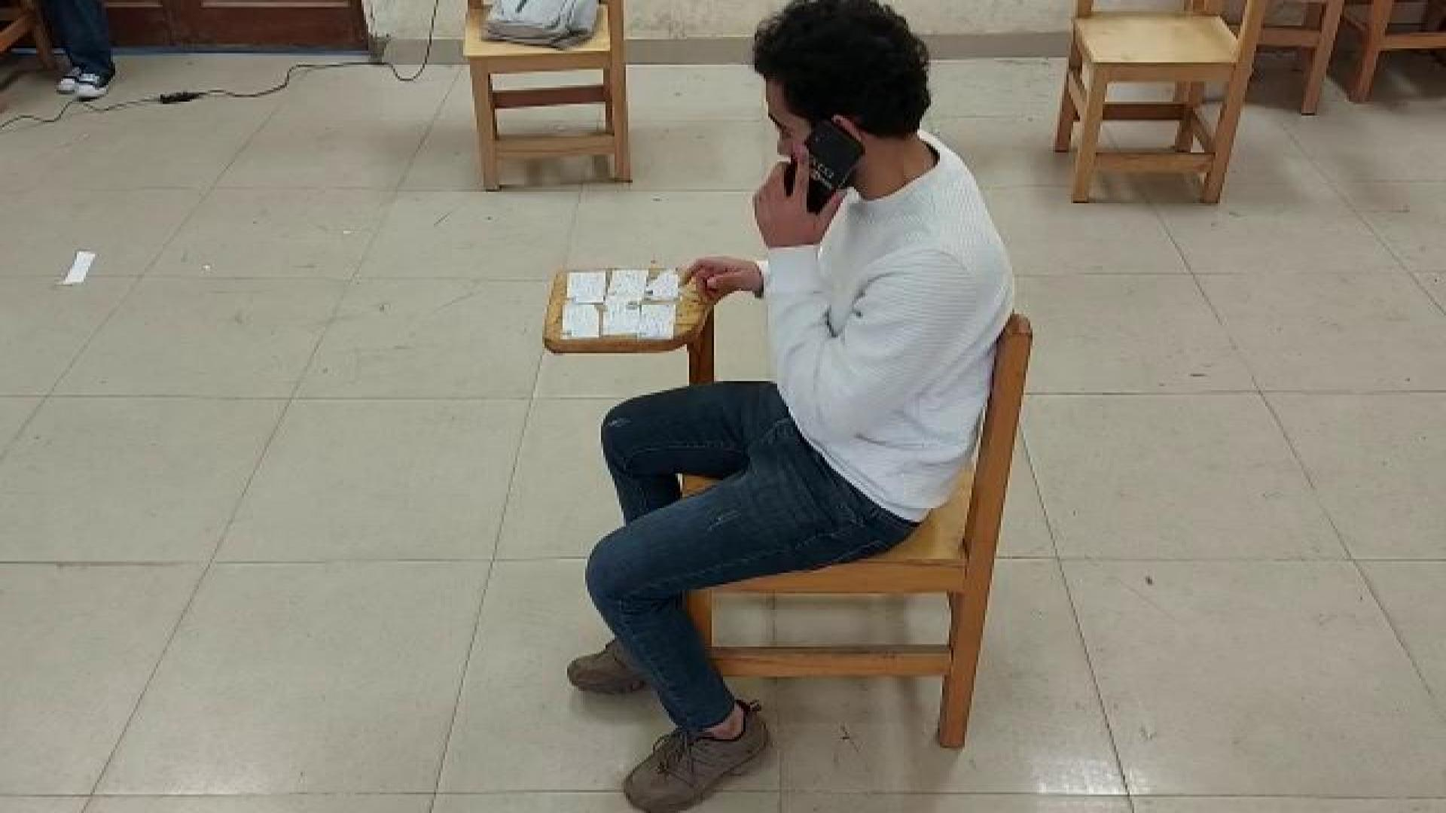phone: (779, 116, 872, 231)
